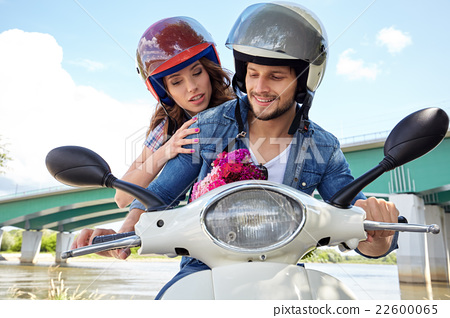helmet: (229, 6, 335, 101), (136, 15, 219, 114)
